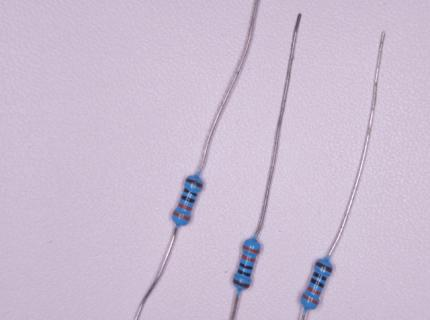Orange band: (301, 294, 319, 305), (173, 210, 190, 221), (243, 245, 260, 254), (307, 286, 321, 295), (178, 203, 192, 211), (242, 254, 255, 262)
